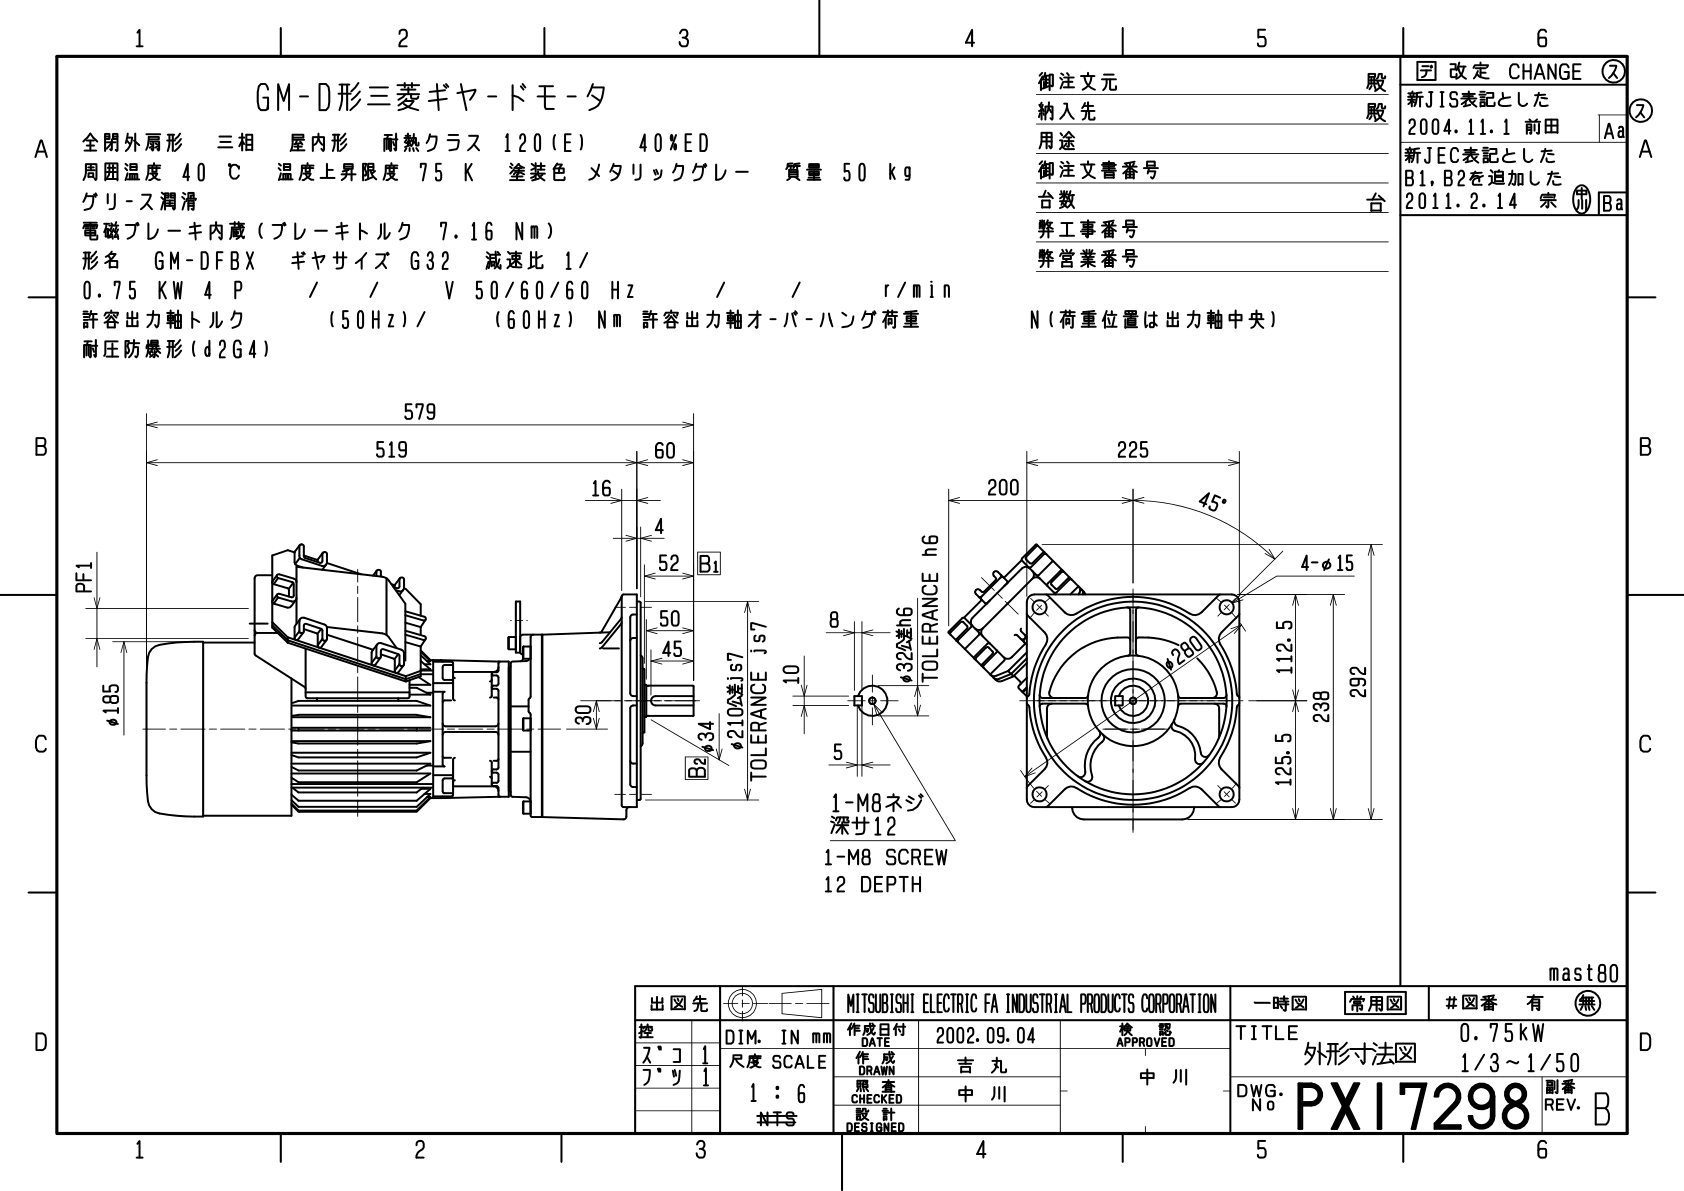GM_SP_屋内＿三相_フランジ: (64, 373, 1393, 907)
